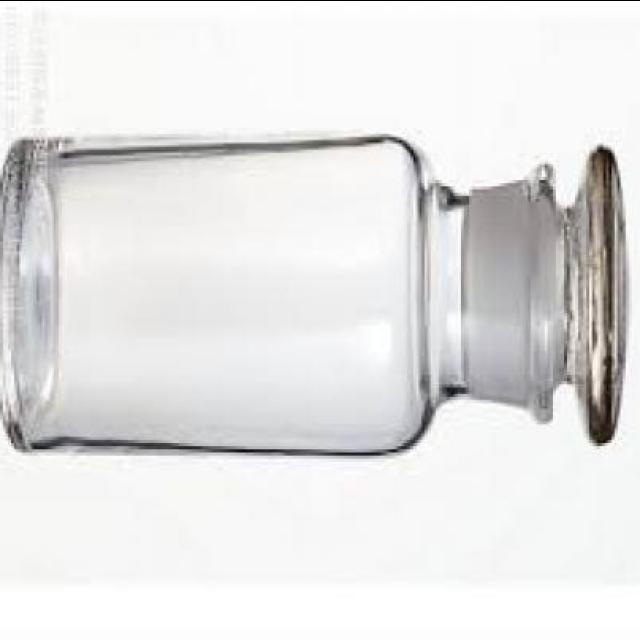kaca: (0, 136, 631, 461)
